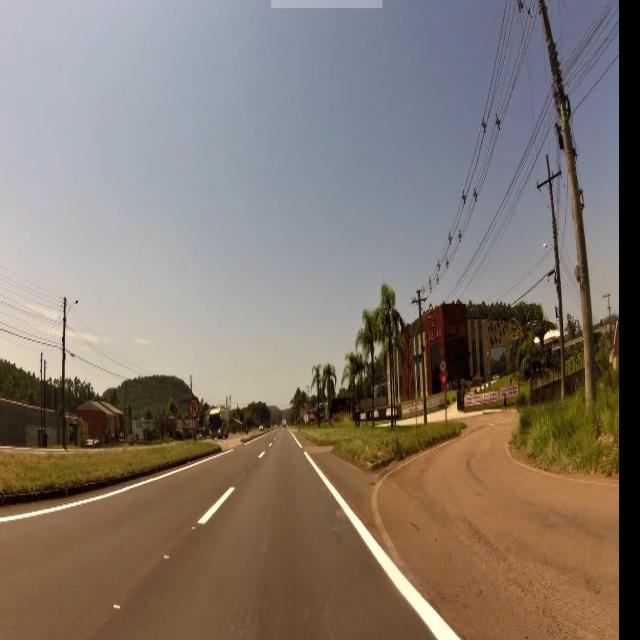R-5a: (190, 395, 200, 422)
